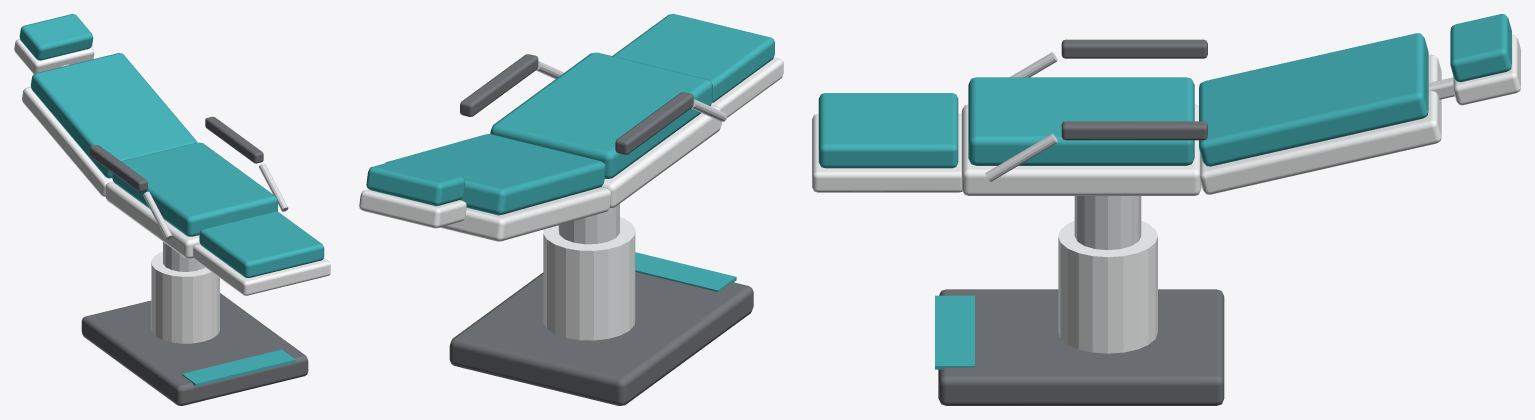
Rendered from dental-chair-reclined.glb.
3 views of the same model, side by side, from view 1: azimuth 30°, elevation 25°; view 2: azimuth 150°, elevation 25°; view 3: azimuth 270°, elevation 25° (orthographic). The views are drawn at different scales.
Visible parts, largest first — view 1: dental-chair-reclined, chair-back-pad, headrest-pad, chair-back, headrest-shell; view 2: dental-chair-reclined, chair-back-pad, chair-back, headrest-pad, headrest-shell; view 3: dental-chair-reclined, chair-back-pad, chair-back, headrest-pad, headrest-shell.
Part boxes in pixels (box(x1,y1,x2,y2)): dental-chair-reclined: box(81, 116, 330, 405); chair-back-pad: box(30, 53, 197, 178); headrest-pad: box(19, 14, 93, 60); chair-back: box(22, 87, 113, 196); headrest-shell: box(14, 39, 94, 73); dental-chair-reclined: box(449, 14, 783, 405); chair-back-pad: box(386, 134, 605, 215); chair-back: box(440, 187, 611, 241); headrest-pad: box(366, 160, 465, 206); headrest-shell: box(359, 189, 466, 228); dental-chair-reclined: box(812, 39, 1224, 405); chair-back-pad: box(1199, 33, 1428, 166); chair-back: box(1200, 54, 1441, 194); headrest-pad: box(1450, 14, 1511, 82); headrest-shell: box(1453, 35, 1520, 105).
Bounding box in the file's own units: 0.66 × 1.1 × 2.13.
